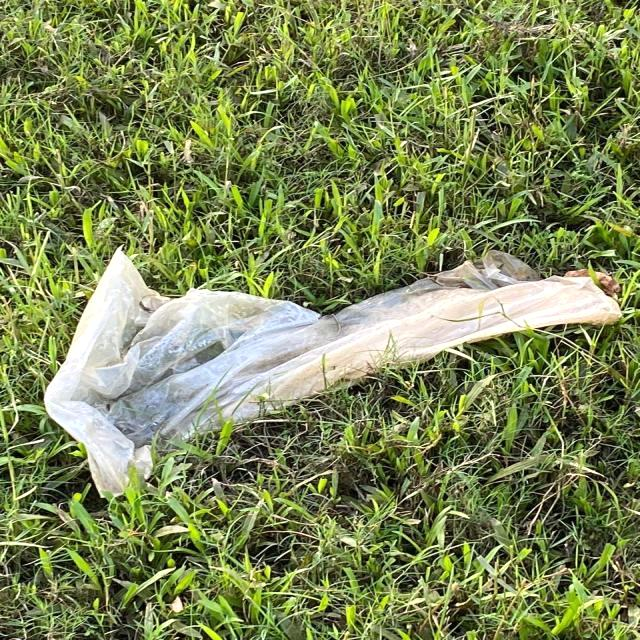polythene: (13, 218, 591, 418)
